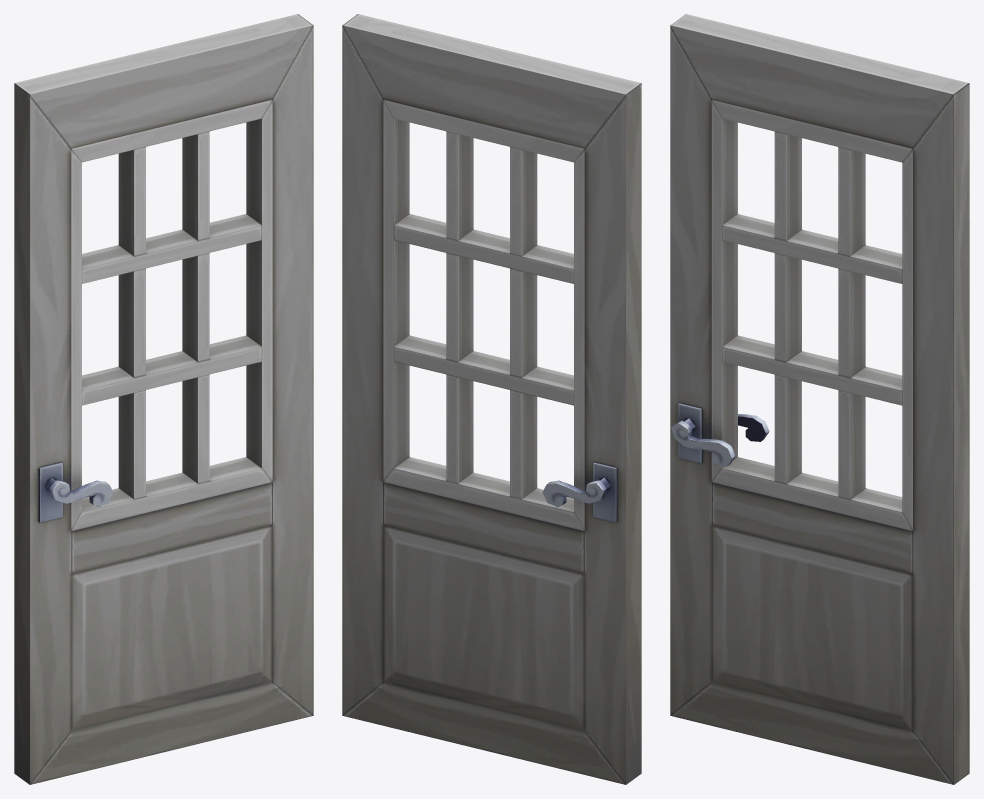
Rendered from moviblePuertaPrincipal.fbx.
3 views of the same model, side by side, from view 1: azimuth 30°, elevation 25°; view 2: azimuth 150°, elevation 25°; view 3: azimuth 330°, elevation 25° (orthographic).
Visible parts, largest first — view 1: porta; view 2: porta; view 3: porta.
Part boxes in pixels (x1,y1,x2,y2): porta: [14, 14, 313, 784]; porta: [342, 14, 641, 784]; porta: [670, 14, 969, 784].
Bounding box in the file's own units: 92 × 214 × 21.06.
Materials: 4 (4 with a texture image).
